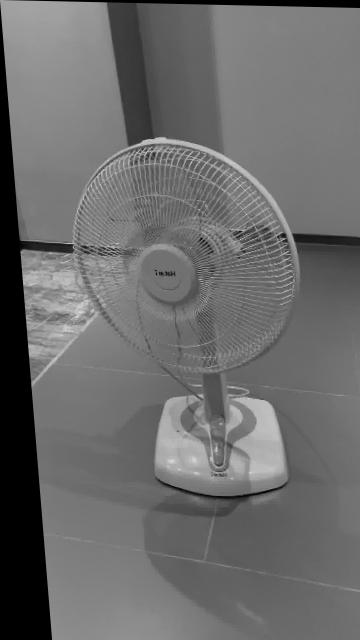Fan: (69, 137, 297, 500)
